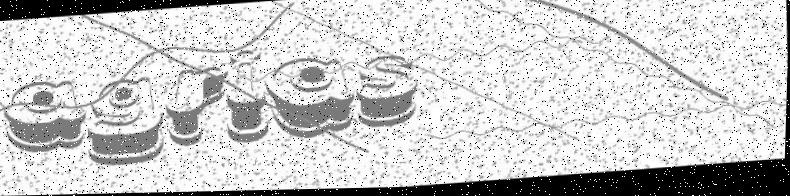a: (264, 53, 360, 142), (1, 72, 90, 154)
g: (85, 73, 168, 167)
i: (224, 47, 274, 147)
r: (163, 62, 232, 151)
s: (352, 52, 423, 131)
